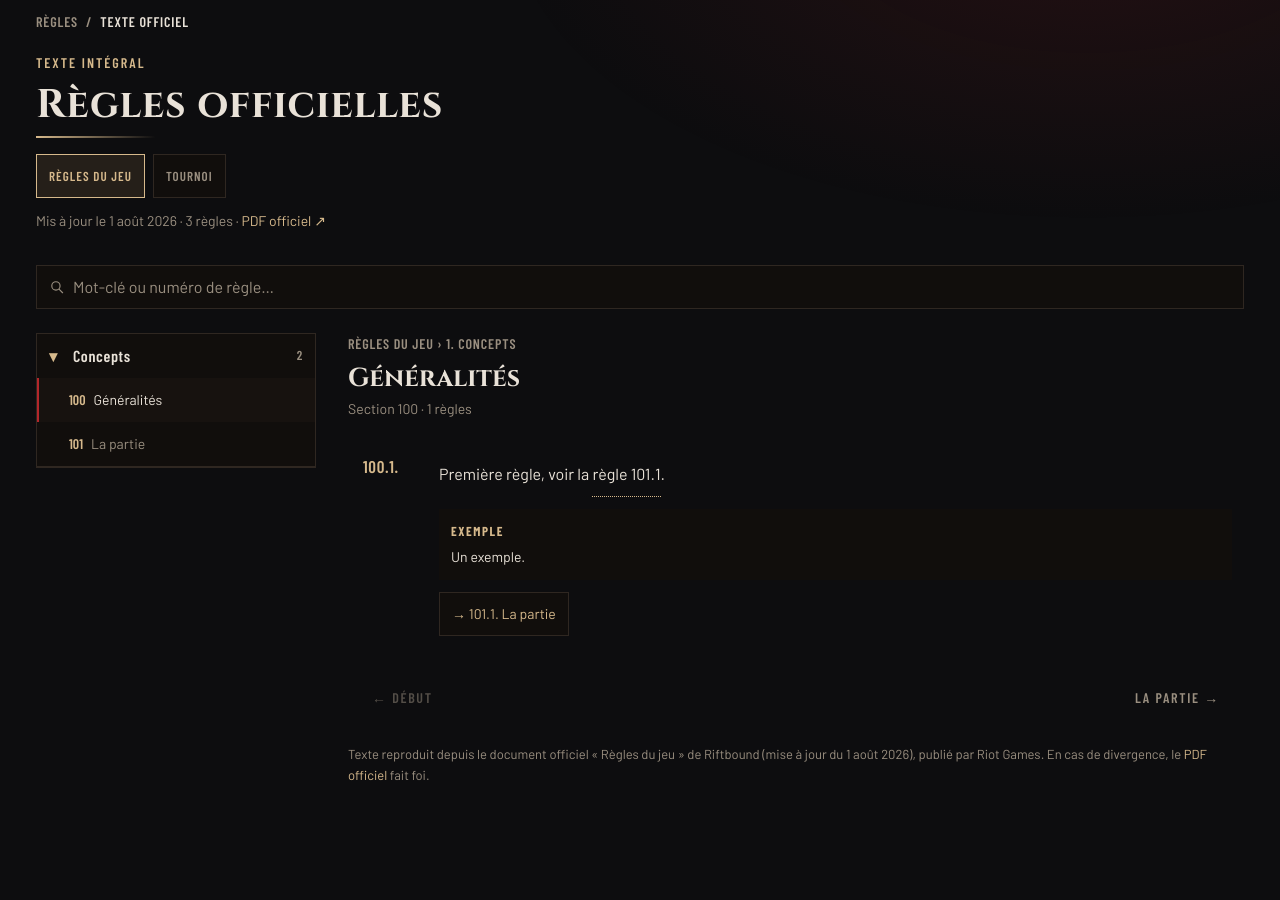
Test case: RulesView : table des matières › bureau : table des matières avec aria-current, changement de section = retour en haut
This screenshot has width=1280, height=900.
expect the element with class "officiel-toc" is shown: met, box [36,333,316,468]
Click the button with class "officiel-toc-section" showing "101 La partie". click: (118, 443)
box: [37,422,315,466]
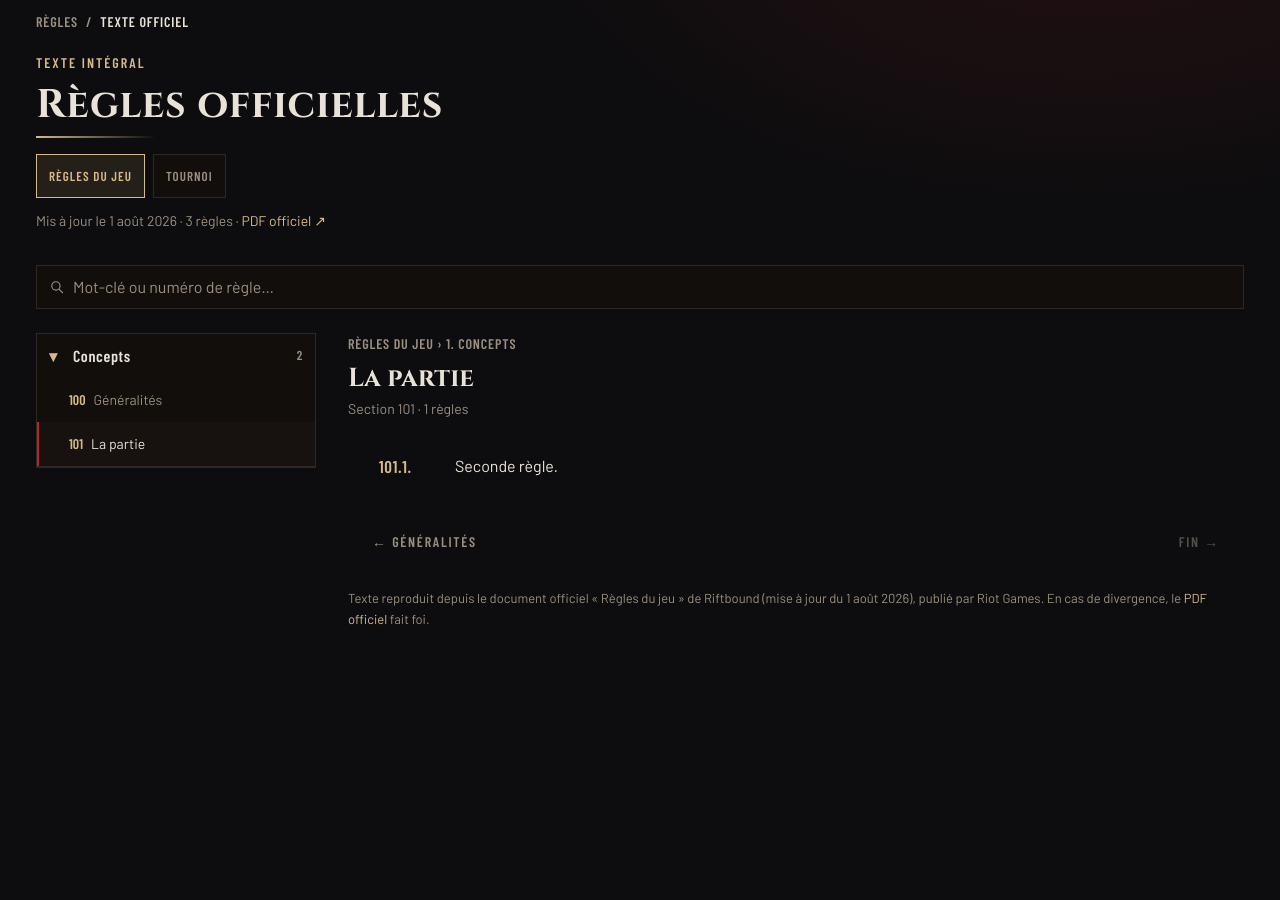
expect the heading with class "officiel-title" reads "La partie": met, box [348,361,474,396]
